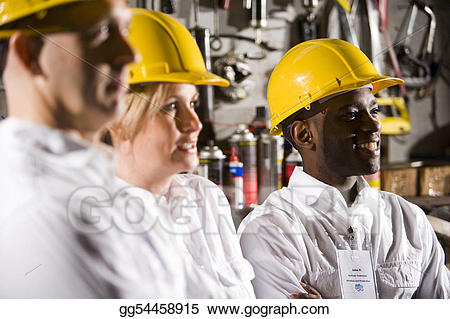Person_wearing_helmet: (267, 27, 398, 141), (117, 7, 234, 131)
